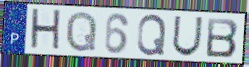6: (104, 12, 131, 55)
B: (205, 17, 240, 59)
H: (29, 7, 63, 54)
Q: (64, 10, 99, 54), (135, 13, 168, 57)
U: (171, 15, 205, 58)
